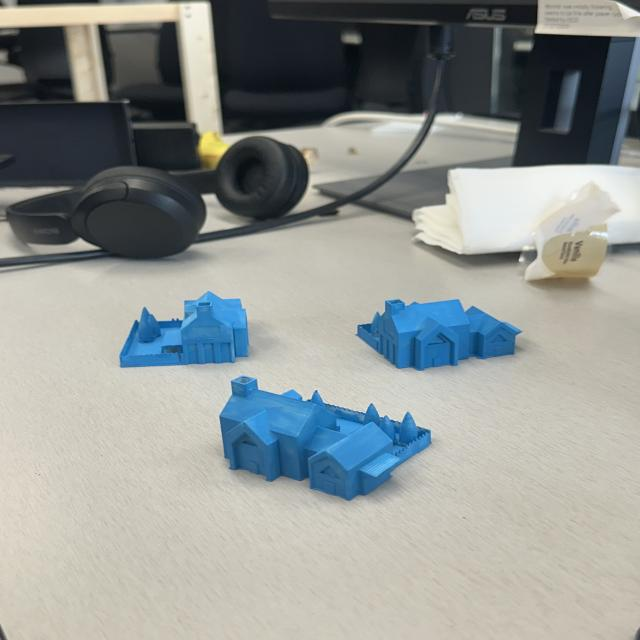house: (215, 373, 435, 502), (354, 297, 525, 372), (114, 290, 253, 369)
